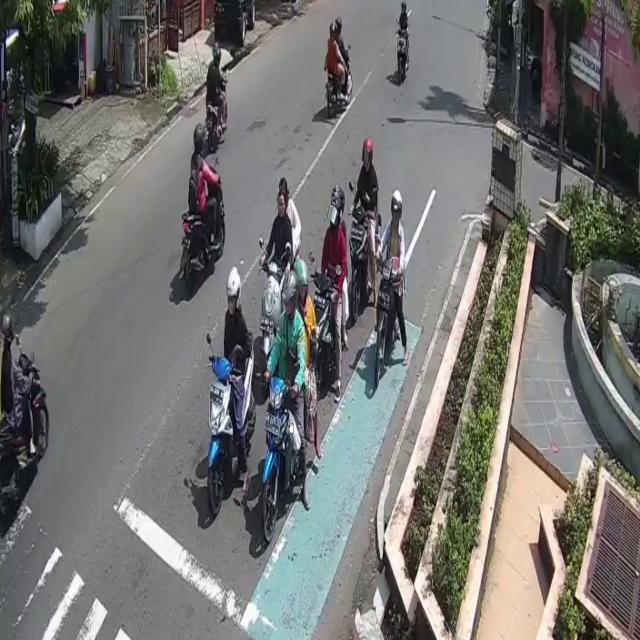bus: (205, 326, 259, 516), (260, 349, 308, 546), (0, 354, 50, 522), (180, 166, 227, 298), (264, 252, 303, 347), (351, 204, 382, 320), (308, 272, 336, 394), (375, 262, 400, 386), (325, 46, 351, 120), (204, 72, 228, 152), (396, 26, 409, 88)
